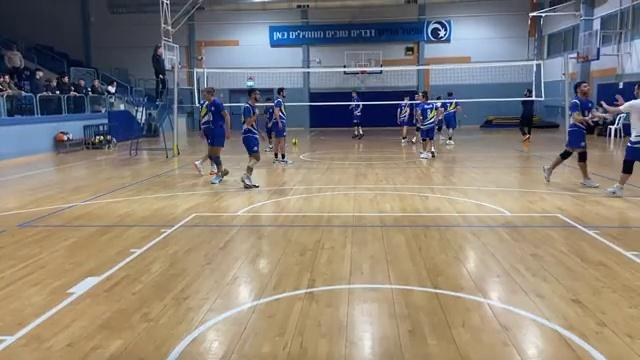ball: (289, 138, 301, 148)
